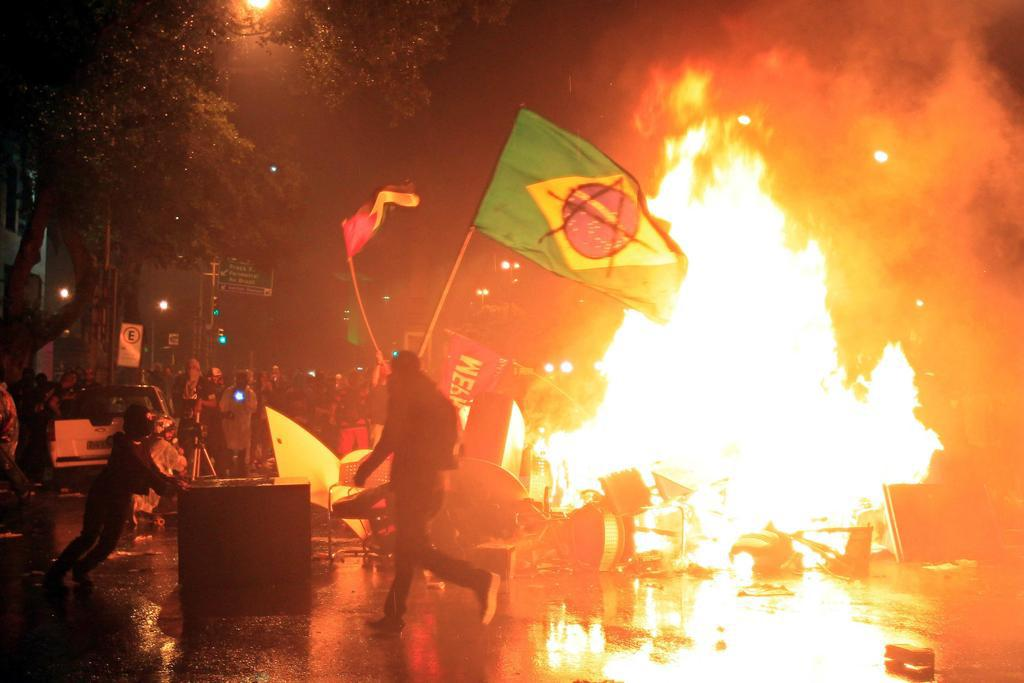face: (141, 415, 155, 433), (155, 419, 164, 435), (187, 366, 197, 379), (76, 372, 84, 383), (212, 375, 220, 384), (85, 370, 93, 379), (246, 373, 253, 383), (237, 377, 244, 386), (24, 375, 32, 382), (38, 377, 44, 385), (71, 377, 76, 385), (272, 368, 278, 374)
